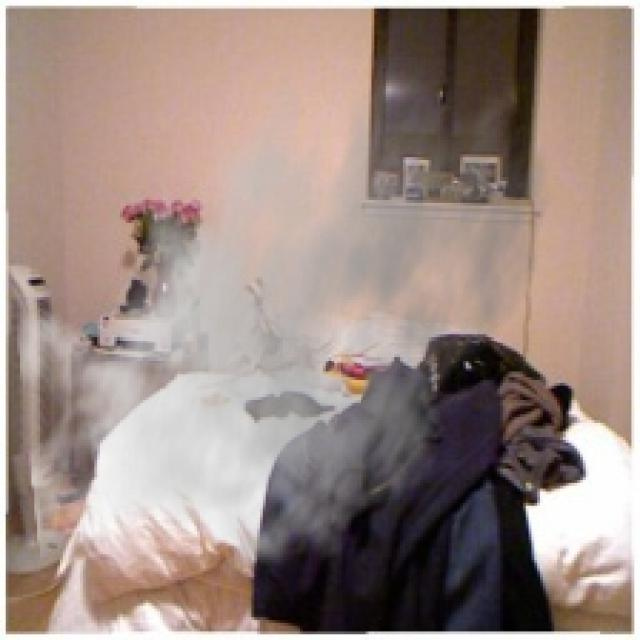smoke: (14, 34, 554, 597)
